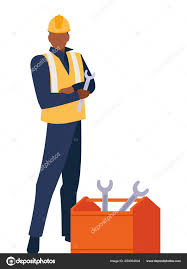Person_wearing_helmet: (40, 13, 73, 36)
